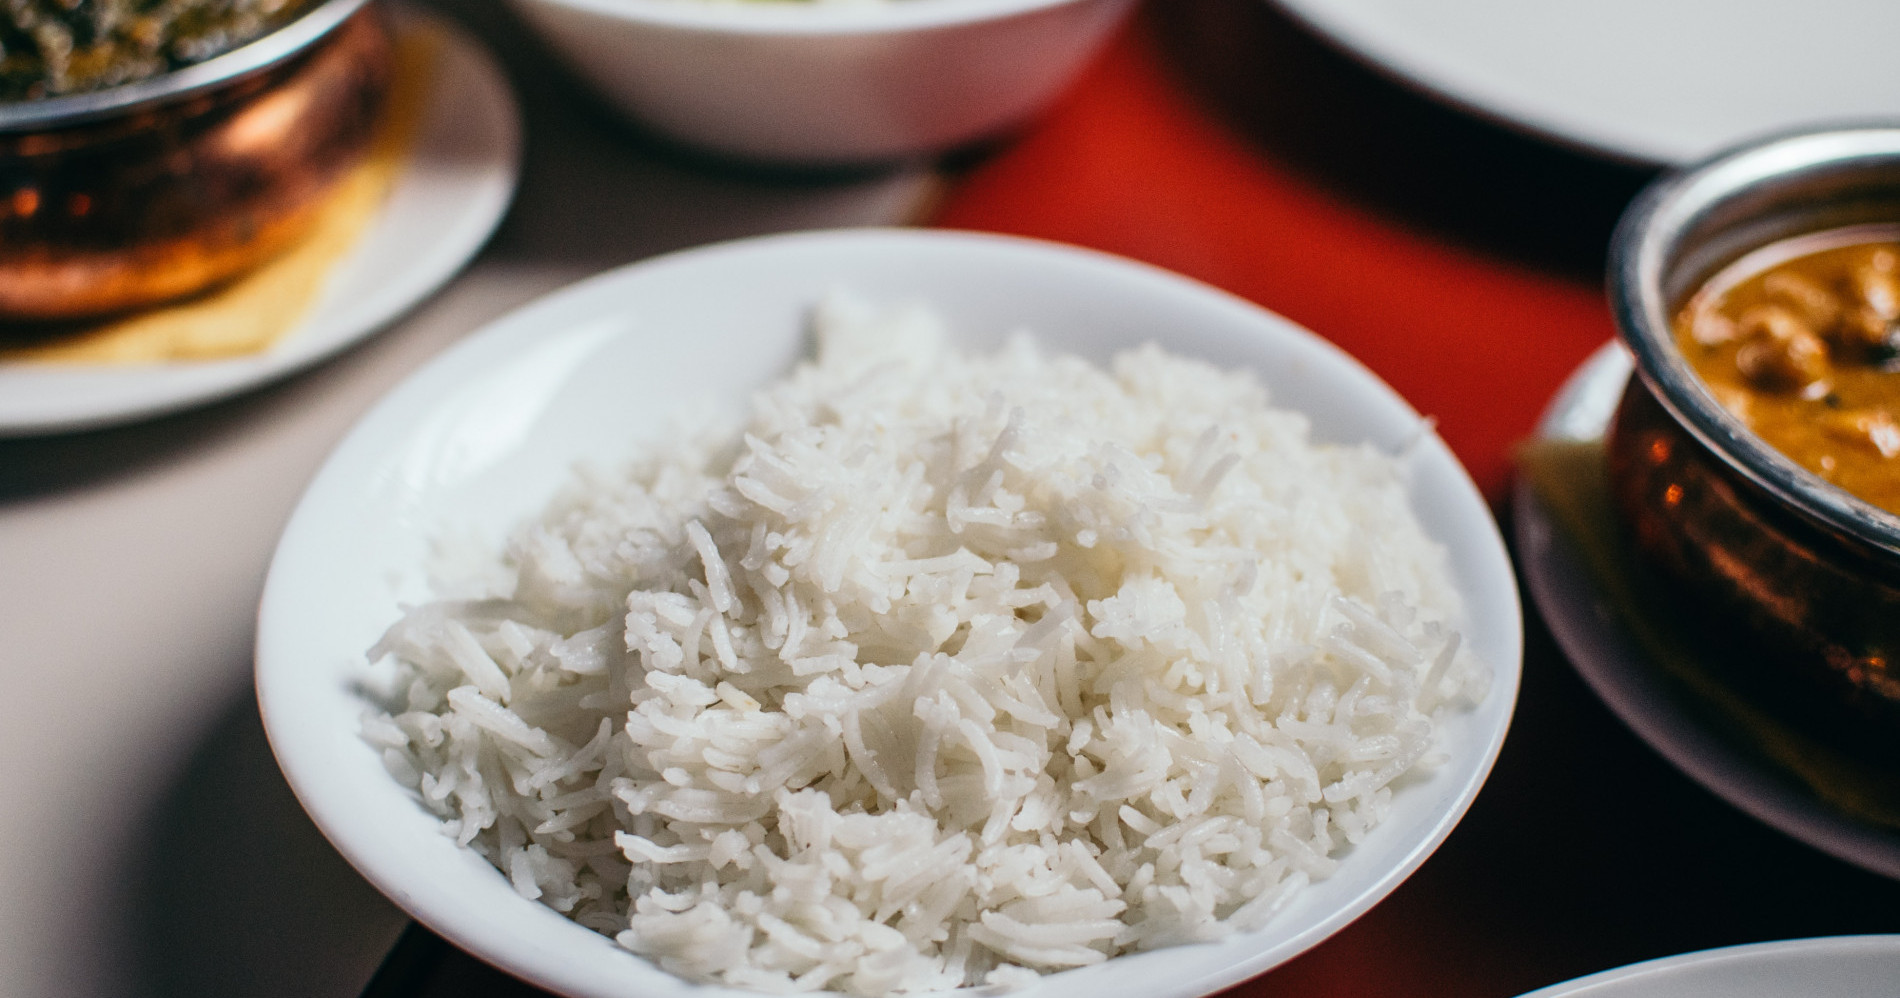Nasi Putih: (388, 266, 1470, 948)
